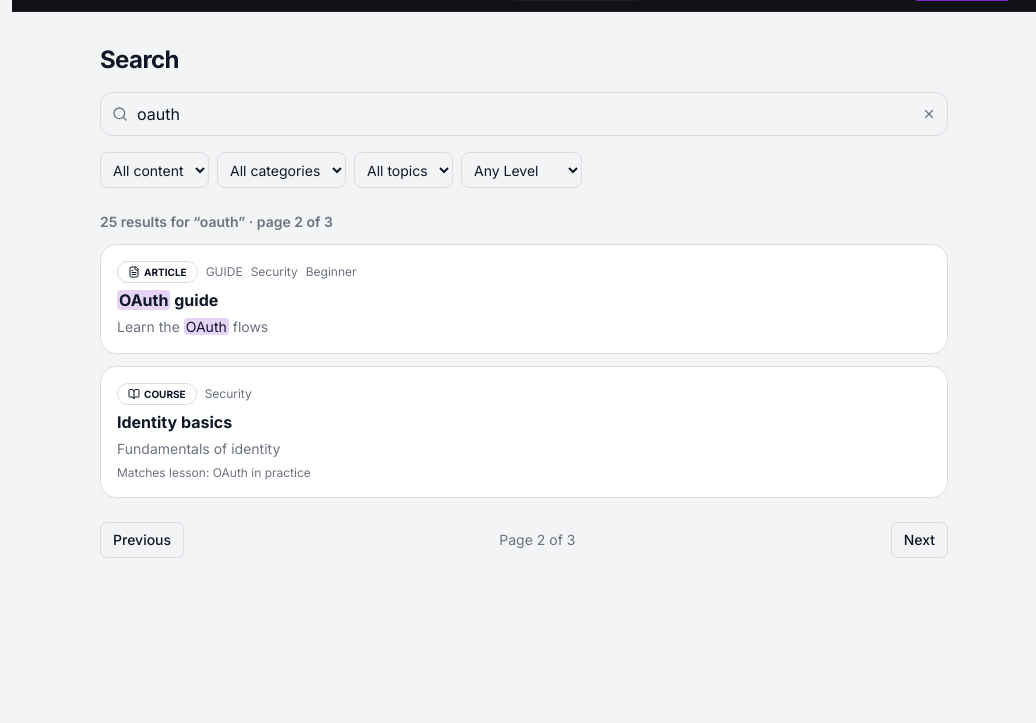
SearchResults › syncs filter changes and pagination back to the URL
This screenshot has width=1036, height=723.
Select "beginner" in the 4th dropdown named "Level" at (522, 170), box [461,152,582,188]
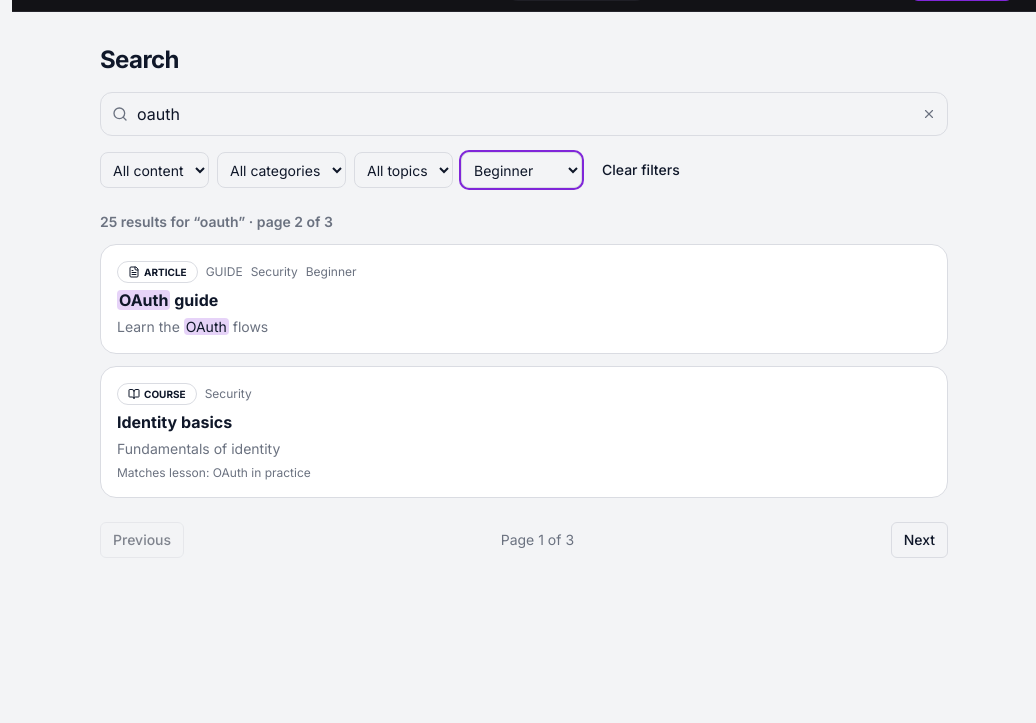
Click the button "Next" at (919, 540), box [891,522,948,558]
(page scrolled)
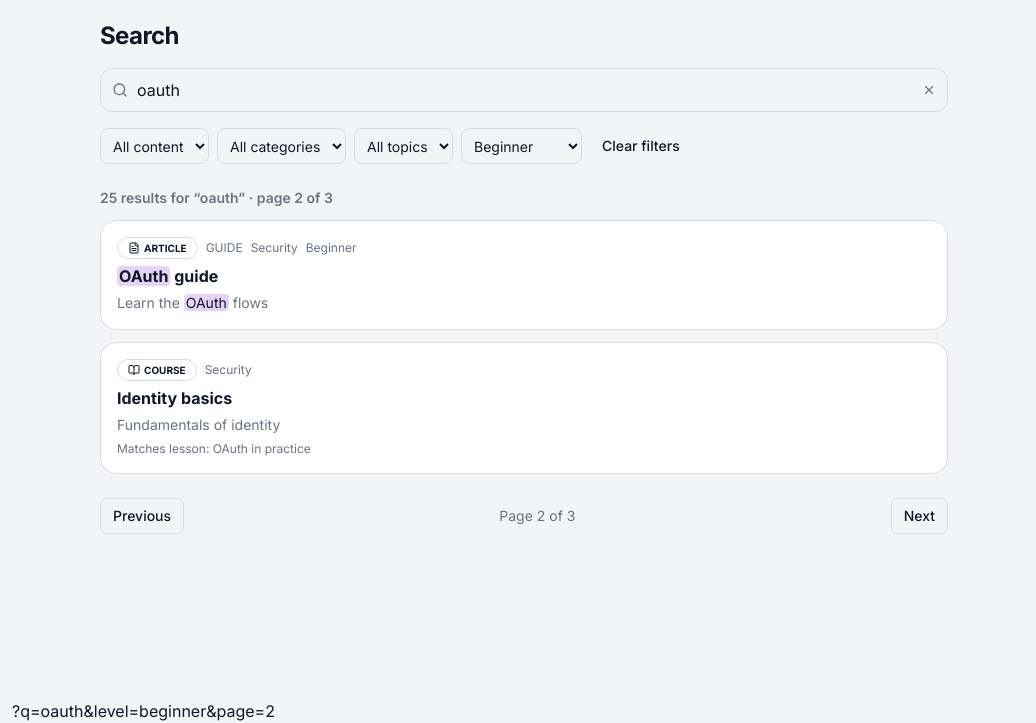
Check: the text with test id "where" reads "?q=oauth&level=beginner&page=2", box [12,701,275,721]
